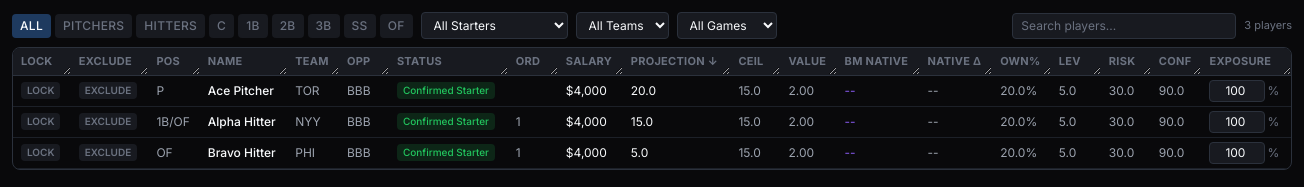
Test: PoolTable › the Hitters tab shows only hitters
Click the button "Hitters". click: x=171, y=26
box: [136,14,205,38]
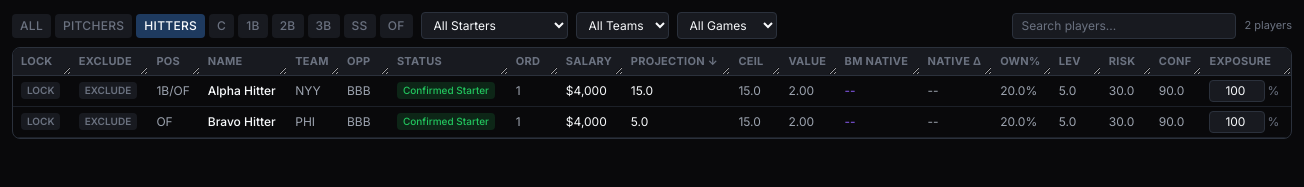
expect the button "Bravo Hitter" is shown: met, box [208,114,276,130]
expect the button "Ace Pitcher" is gone: met
